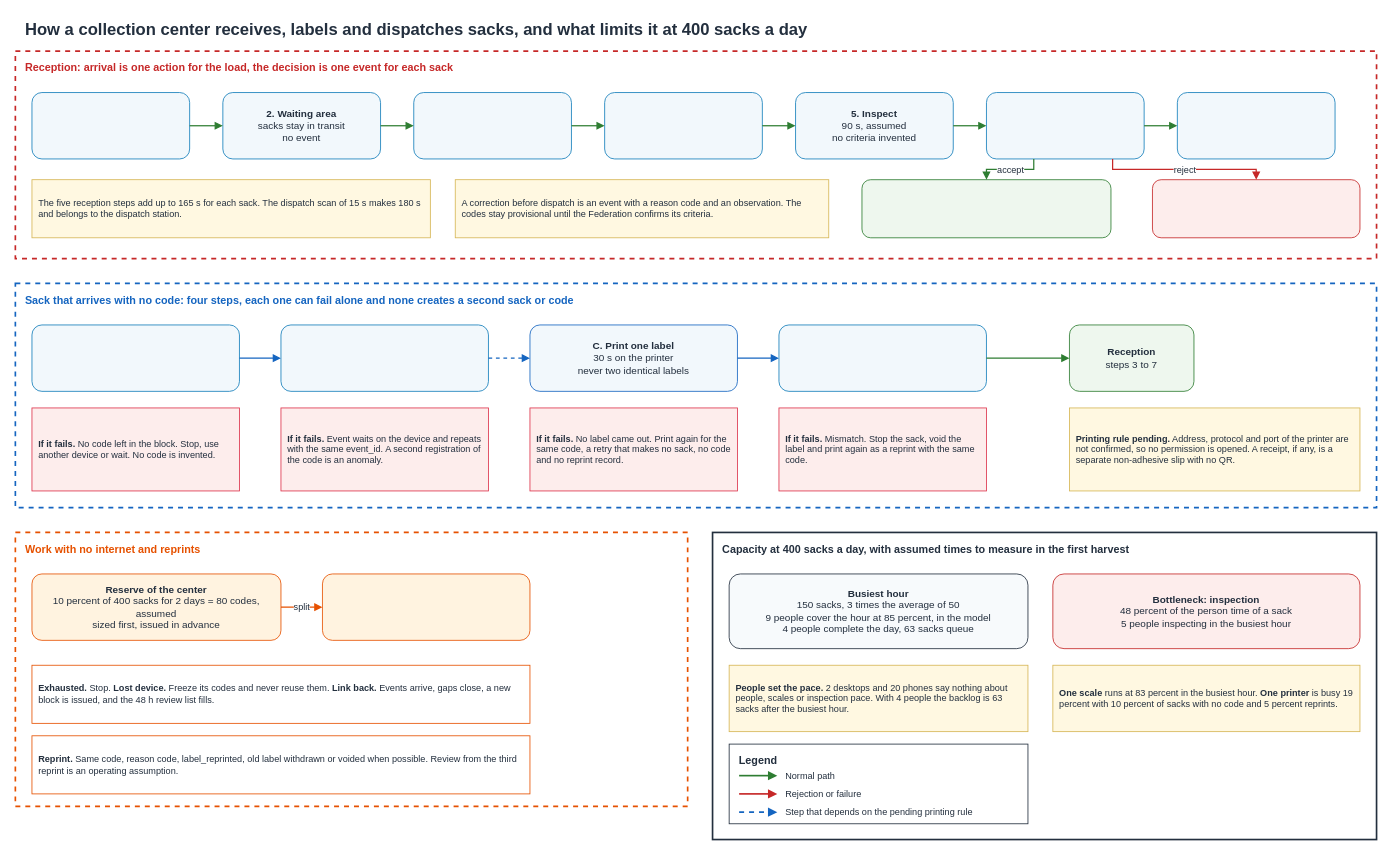
This 1391x854 diagram has some shape labels left out. Here are the shapes that lost their labels. From the top down, the centre of each, then its label:
pixel 110 125: 1. Load arrives carrier, once arrived_at_center
pixel 492 125: 3. Scan the label 15 s, assumed
pixel 683 125: 4. Weigh 20 s, assumed farm weight is kept
pixel 1065 125: 6. Decide and record 20 s, assumed reception weight, reason code
pixel 1256 125: 7. Move the sack 20 s, assumed stack or return area
pixel 986 208: Accepted received_accepted then dispatched_to_port, groups of 30, 15 s a sack
pixel 1256 208: Rejected received_rejected then returned_to_farm, same code
pixel 135 357: A. Assign a code from the issued block of this device 20 s with B
pixel 384 357: B. Register registered_at_center farm, weight, event_id
pixel 882 357: D. Attach and scan 40 s scan must match the registered code
pixel 426 606: Exclusive blocks no overlap, one per device 40 + 40, or 27 + 27 + 26
